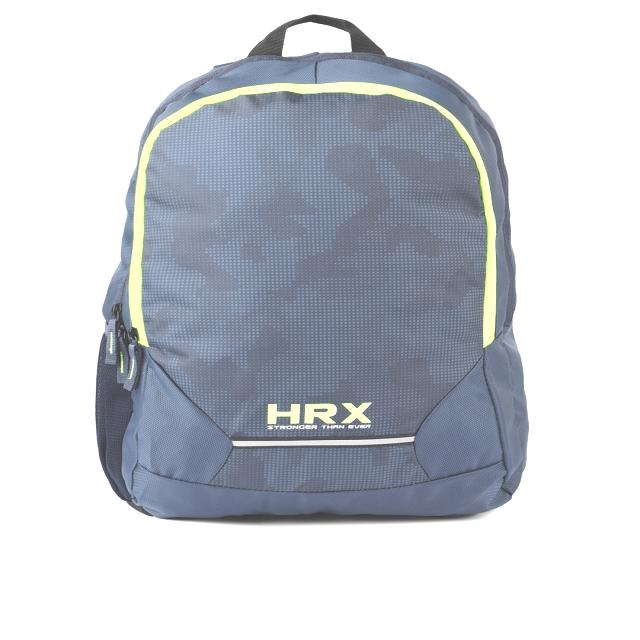backpack: (95, 15, 531, 521)
